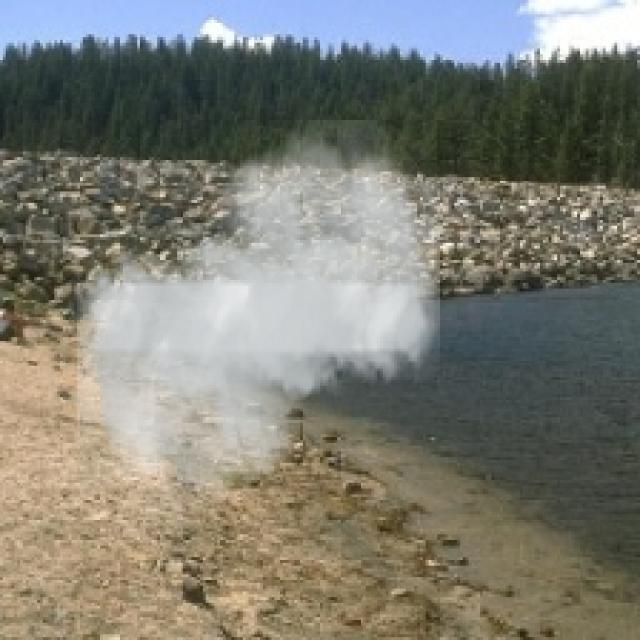smoke: (77, 120, 440, 514)
